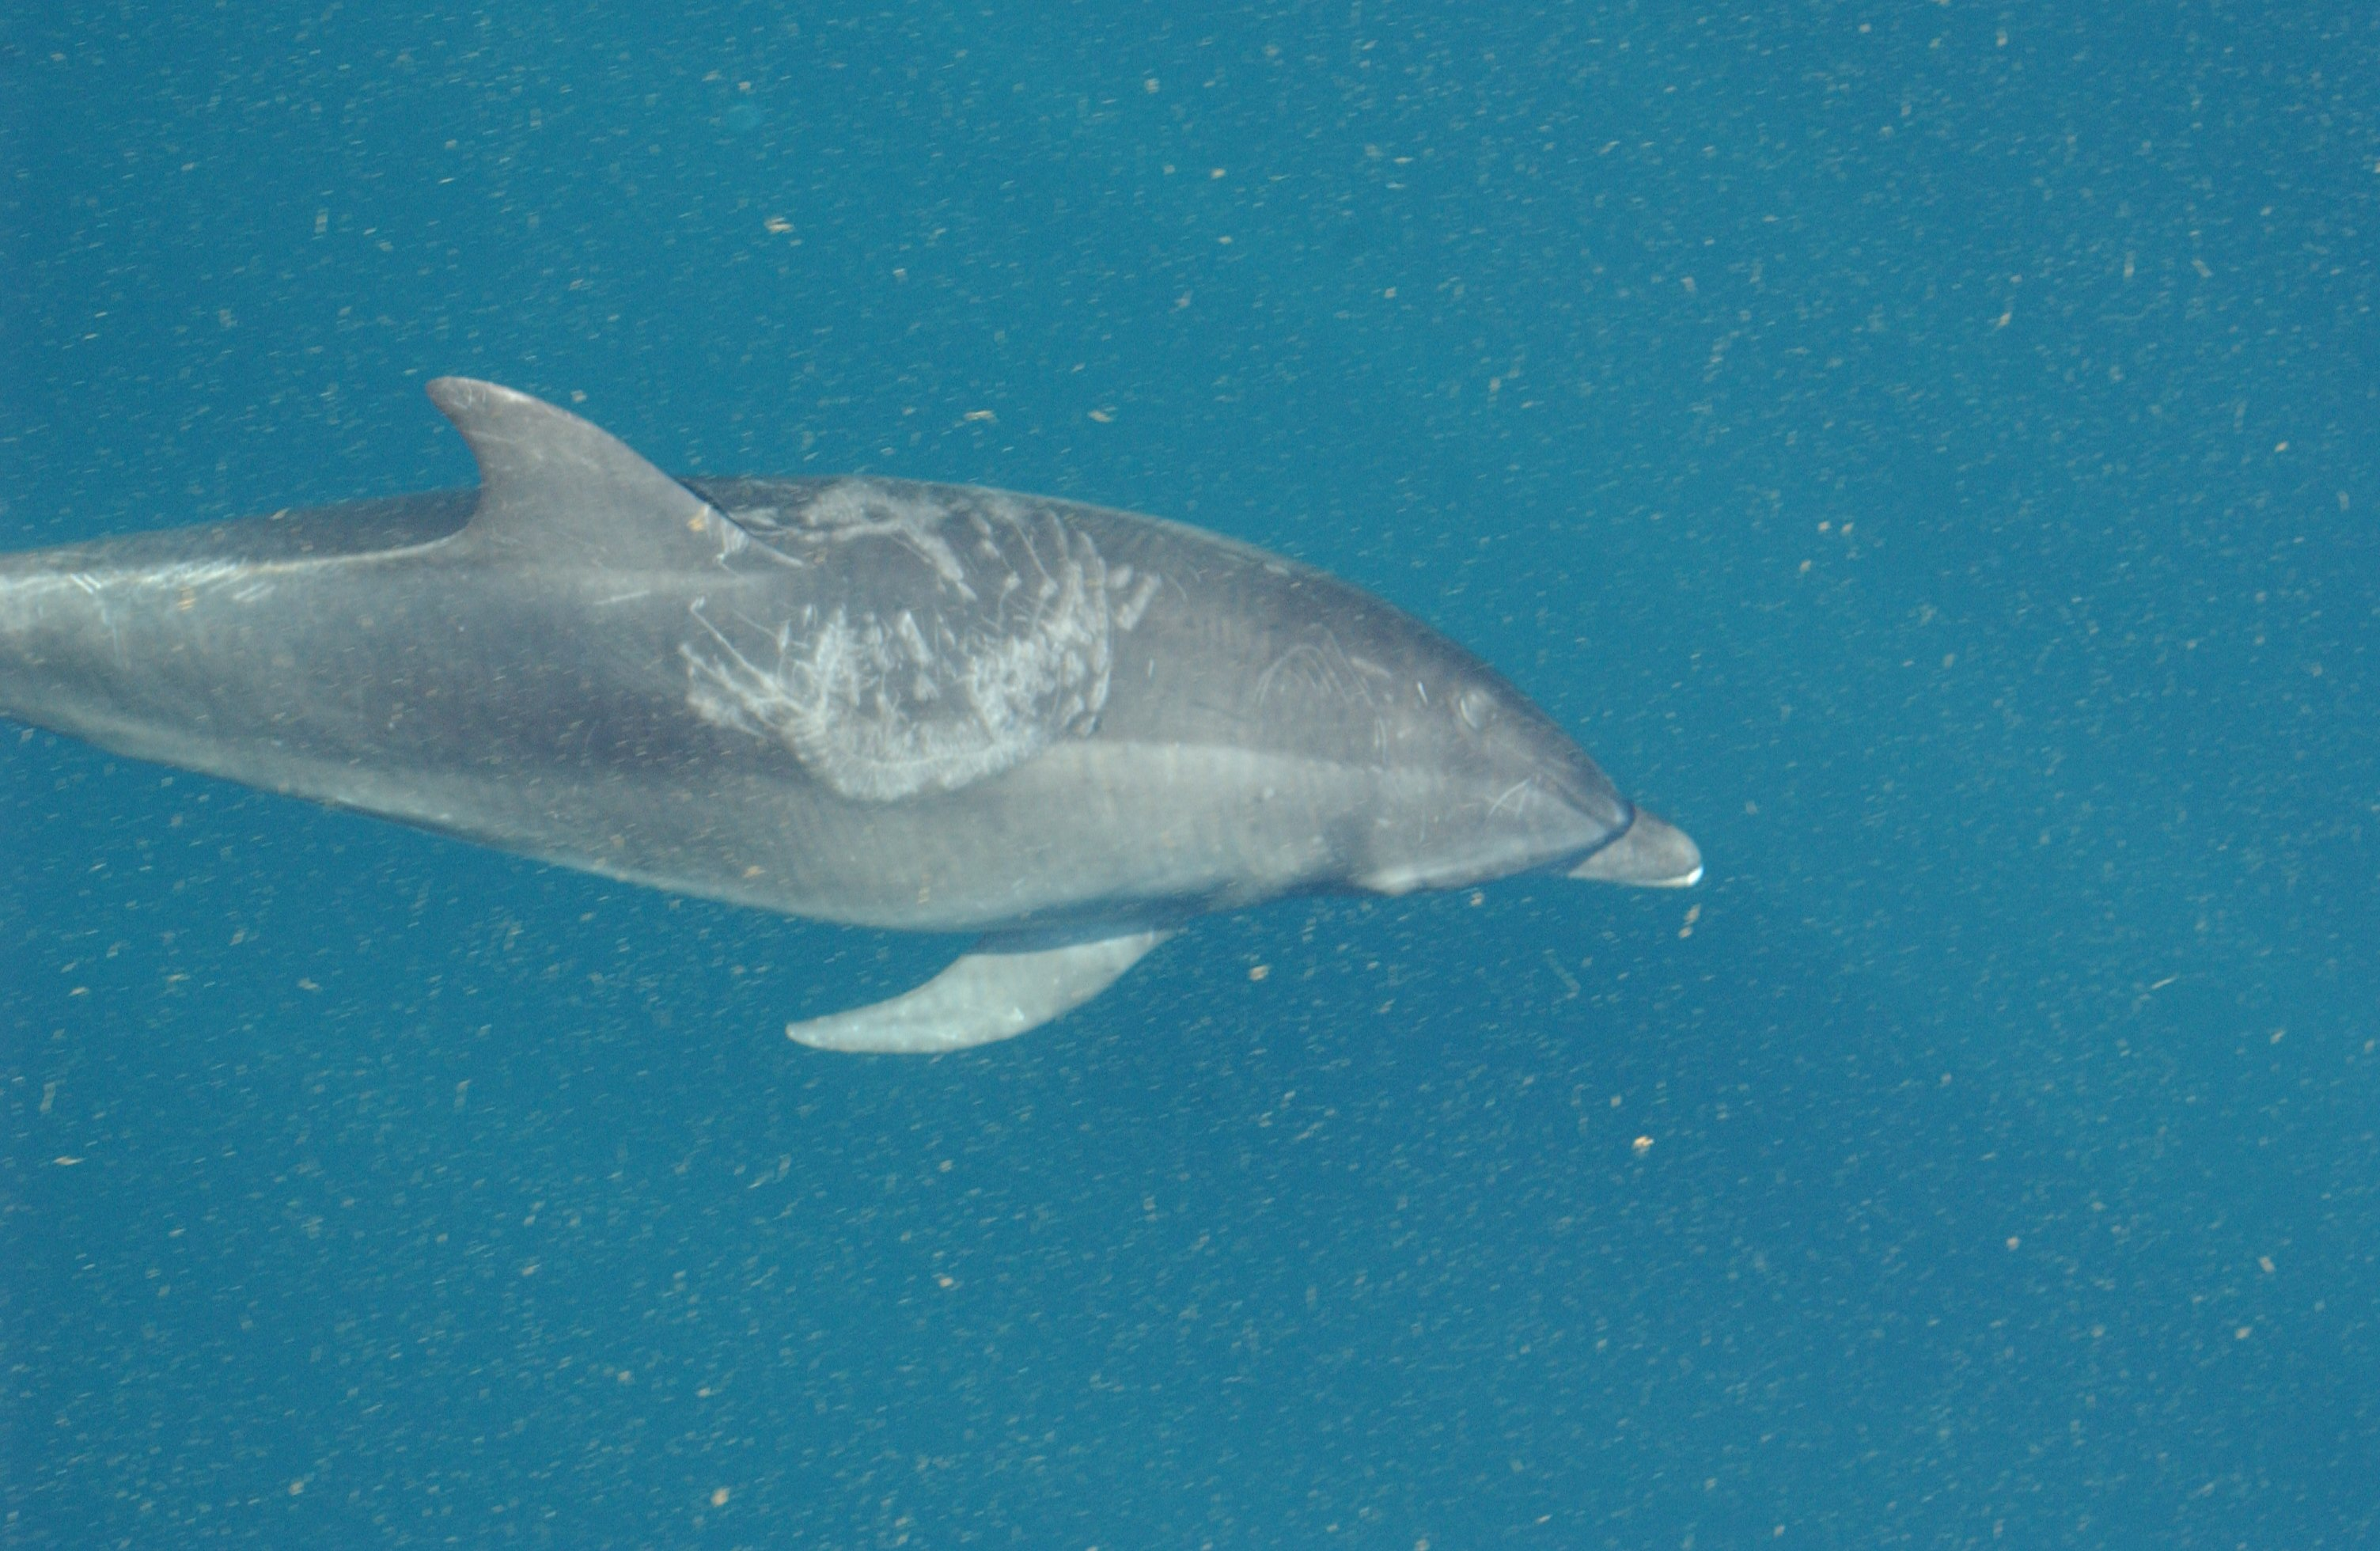dolphin: (0, 366, 1703, 1050)
